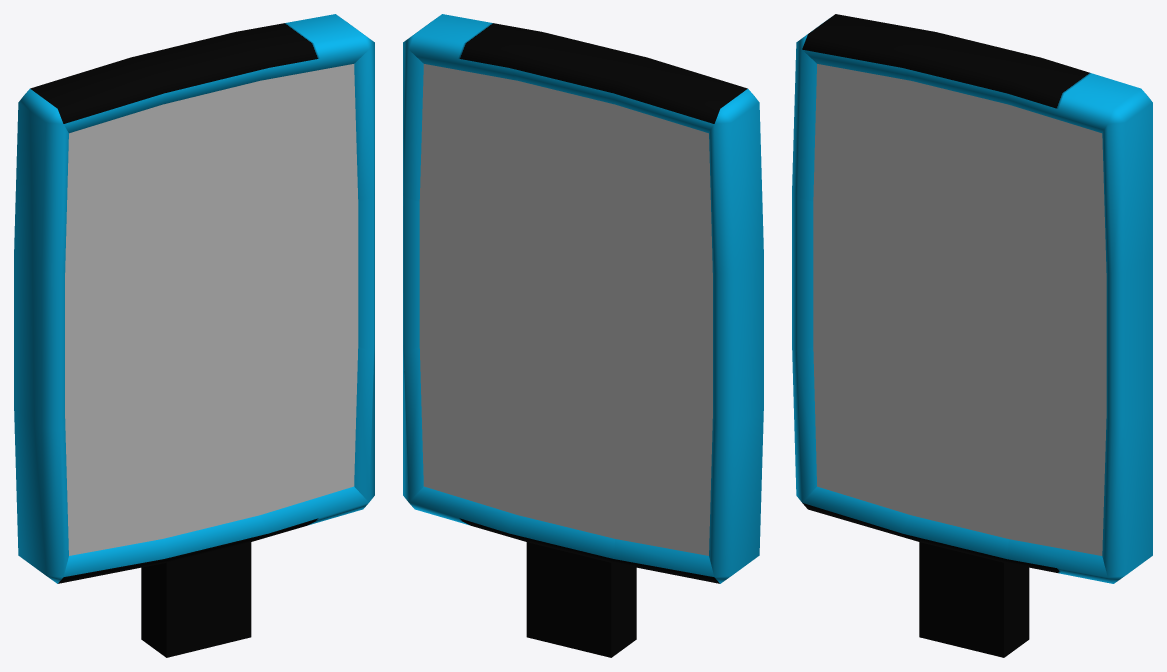
File: panneau_sol.fbx
3 renders of one model, left to right at view 1: azimuth 30°, elevation 25°; view 2: azimuth 150°, elevation 25°; view 3: azimuth 330°, elevation 25°, orthographic.
Visible parts, largest first — view 1: panneau_sol; view 2: panneau_sol; view 3: panneau_sol.
Boxes of the visible parts, <box> form: panneau_sol: <box>14,14,374,657</box>; panneau_sol: <box>403,14,763,657</box>; panneau_sol: <box>792,14,1152,657</box>.
Size of the model in its own units: 0.739 by 1.24 by 0.1523.
